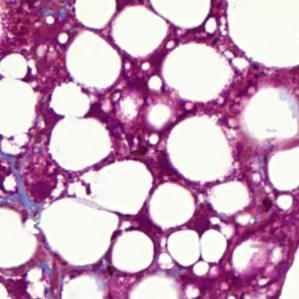steatosis: (162, 118, 242, 184), (158, 38, 232, 106), (85, 158, 154, 213), (63, 32, 122, 90)
